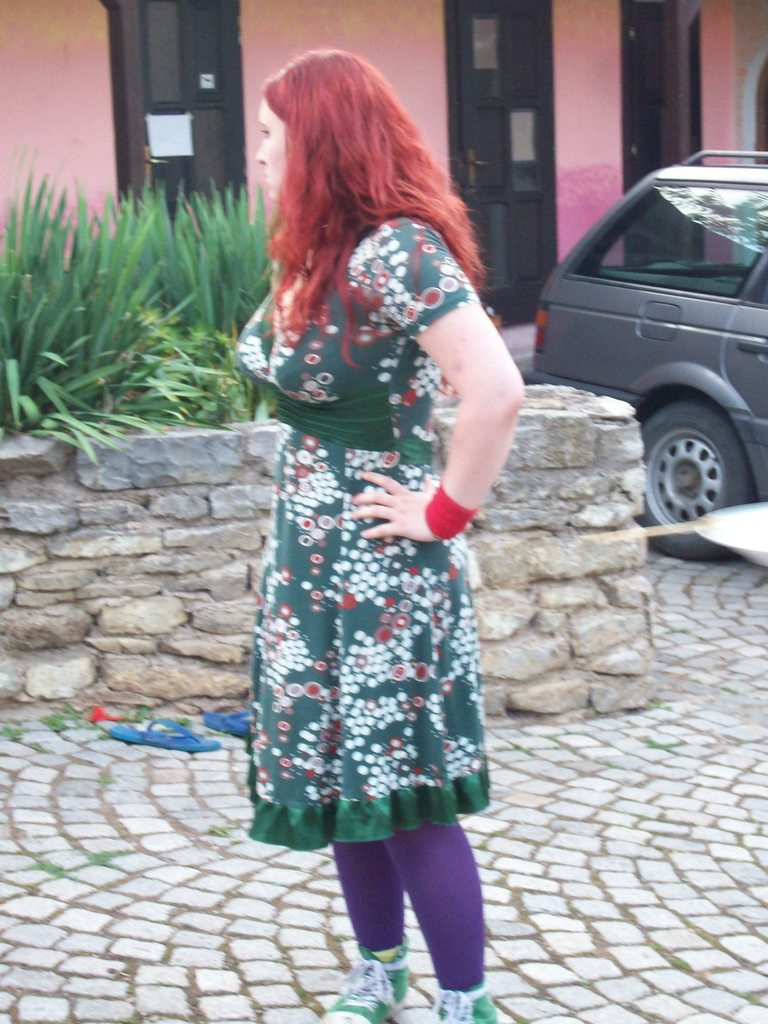Car: (531, 151, 768, 547)
